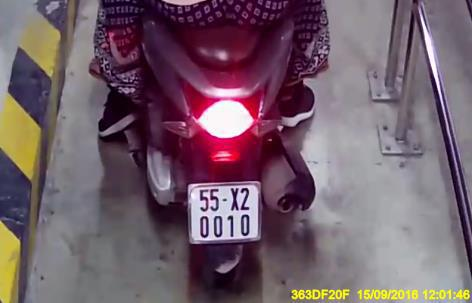License_Plate: (181, 177, 268, 251)
